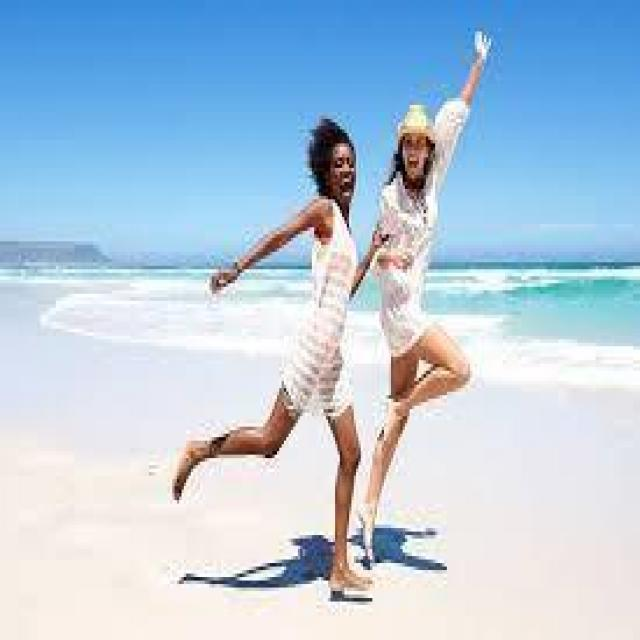person: (158, 63, 384, 605), (375, 18, 519, 580)
